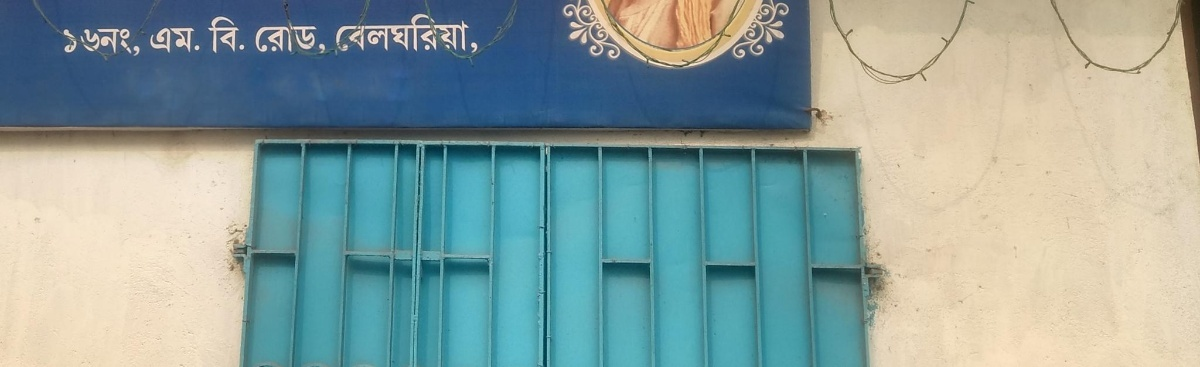text: (209, 12, 224, 57), (225, 12, 240, 57), (337, 12, 352, 55), (353, 12, 368, 55), (369, 12, 384, 55), (385, 12, 400, 55), (401, 12, 416, 55), (417, 12, 432, 55), (433, 12, 448, 55), (449, 12, 464, 55), (465, 12, 480, 55), (65, 24, 80, 59), (81, 24, 96, 59), (97, 24, 112, 59), (113, 24, 128, 59), (257, 24, 272, 55), (273, 24, 288, 55), (289, 24, 304, 55), (305, 24, 320, 55), (129, 24, 142, 59), (161, 27, 176, 54), (177, 27, 192, 54), (321, 24, 332, 55), (241, 12, 248, 57), (193, 27, 204, 54), (152, 27, 160, 54), (205, 12, 208, 57), (61, 24, 64, 59), (334, 12, 336, 55), (481, 12, 482, 55)
